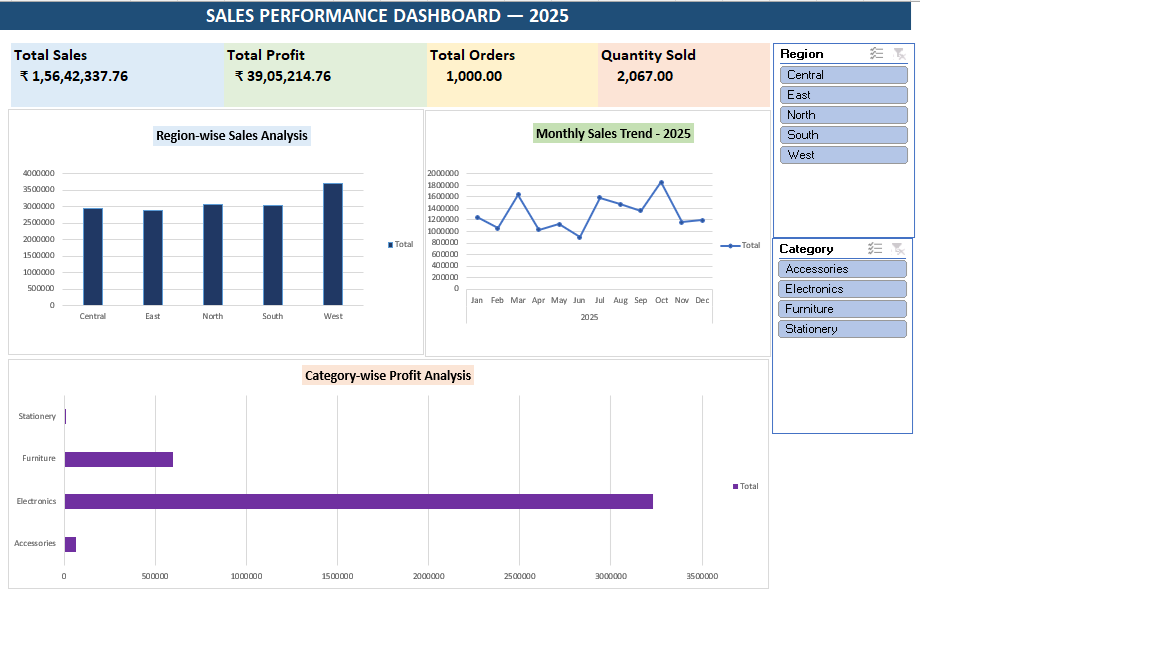

The page's visual inventory and layout, read from the dashboard file:
{"tool":"powerbi","page":{"name":"Sales Analytics Dashboard","canvas":[1200,950],"ordinal":0},"visuals":[{"type":"cardVisual","fields":{"Data":["sales_analytics_dataset.Sales in Lakhs"]},"box":[80.2,129.7,238.5,203.3],"z":0},{"type":"cardVisual","fields":{"Data":["sales_analytics_dataset.Profit in Lakhs"]},"box":[309.1,136.4,245,203.3],"z":1000},{"type":"cardVisual","fields":{"Data":["sales_analytics_dataset.Total Orders"]},"box":[555,138.3,241.7,200],"z":2000},{"type":"cardVisual","fields":{"Data":["sales_analytics_dataset.Quantity Sold"]},"box":[797.1,138.6,220,200],"z":3000},{"type":"lineChart","title":"Sales Trend Analysis (2025)","fields":{"Category":["sales_analytics_dataset.Order_Date.Variation.Date Hierarchy.Year","sales_analytics_dataset.Order_Date.Variation.Date Hierarchy.Quarter","sales_analytics_dataset.Order_Date.Variation.Date Hierarchy.Month","sales_analytics_dataset.Order_Date.Variation.Date Hierarchy.Day"],"Y":["sales_analytics_dataset.Sales in Lakhs"]},"box":[80.2,337.4,474.7,284.6],"z":4000},{"type":"clusteredBarChart","title":"Region-wise Sales","fields":{"Category":["sales_analytics_dataset.Region"],"Y":["sales_analytics_dataset.Sales in Lakhs"]},"box":[555,338.3,461.7,285],"z":5000},{"type":"clusteredColumnChart","title":"Category-wise Profit","fields":{"Category":["sales_analytics_dataset.Category"],"Y":["sales_analytics_dataset.Profit in Lakhs"]},"box":[80,623.3,475,280],"z":6000},{"type":"clusteredBarChart","title":"Top 5 Products by Sales (₹ Lakhs)","fields":{"Category":["sales_analytics_dataset.Product"],"Y":["sales_analytics_dataset.Sales in Lakhs"]},"box":[555,623.3,461.7,280],"z":7000},{"type":"slicer","fields":{"Values":["sales_analytics_dataset.Region"]},"box":[80,70,460,66],"z":8000},{"type":"slicer","fields":{"Values":["sales_analytics_dataset.Category"]},"box":[545,70,471.7,65],"z":9000},{"type":"textbox","box":[0,0,1050,70],"z":10000}]}

Visuals, with their boxes on the page's 1200x950 design canvas (x1, y1, x2, y2). These are canvas units, not pixel positions in the 1152x648 screenshot, which may show the page scaled, cropped or inside an application window:
cardVisual - sales_analytics_dataset.Sales in Lakhs: {"left": 80, "top": 130, "right": 319, "bottom": 333}
cardVisual - sales_analytics_dataset.Profit in Lakhs: {"left": 309, "top": 136, "right": 554, "bottom": 340}
cardVisual - sales_analytics_dataset.Total Orders: {"left": 555, "top": 138, "right": 797, "bottom": 338}
cardVisual - sales_analytics_dataset.Quantity Sold: {"left": 797, "top": 139, "right": 1017, "bottom": 339}
"Sales Trend Analysis (2025)" lineChart: {"left": 80, "top": 337, "right": 555, "bottom": 622}
"Region-wise Sales" clusteredBarChart: {"left": 555, "top": 338, "right": 1017, "bottom": 623}
"Category-wise Profit" clusteredColumnChart: {"left": 80, "top": 623, "right": 555, "bottom": 903}
"Top 5 Products by Sales (₹ Lakhs)" clusteredBarChart: {"left": 555, "top": 623, "right": 1017, "bottom": 903}
slicer - sales_analytics_dataset.Region: {"left": 80, "top": 70, "right": 540, "bottom": 136}
slicer - sales_analytics_dataset.Category: {"left": 545, "top": 70, "right": 1017, "bottom": 135}
textbox: {"left": 0, "top": 0, "right": 1050, "bottom": 70}
